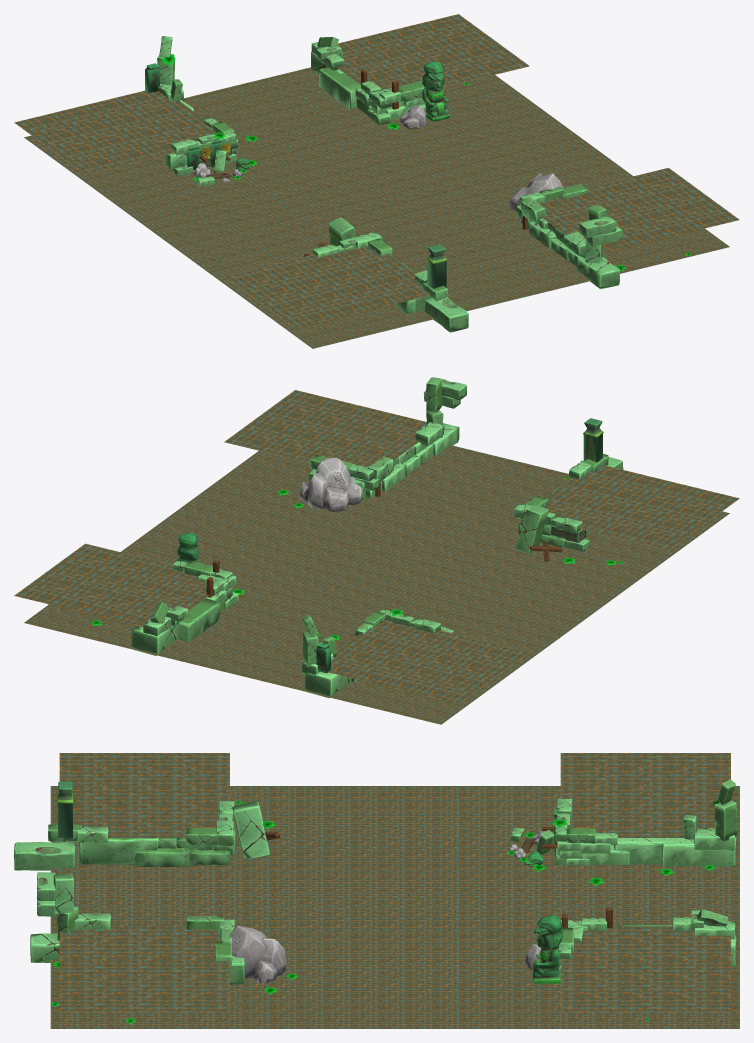
The model's file is grounds+assets.obj.
The picture shows the model from 3 angles, top to bottom: view 1: azimuth 30°, elevation 25°; view 2: azimuth 150°, elevation 25°; view 3: azimuth 270°, elevation 25°; orthographic projection. The views are drawn at different scales.
Visible parts, largest first — view 1: terrain.003, terrain.001, Cube_001.001, brick3_low.074, brick2_low.027_brick2_low.029, brick3_low.099, columna4_low, rock1_low.004, brick2_low.019_brick2_low.032; view 2: terrain.003, terrain.001, rock1_low.004, brick3_low.074, brick3_low.064, brick3_low.073, brick3_low.014, columna4_low, Cube_001.001; view 3: terrain.003, terrain.001, rock1_low.004, brick2_low.027_brick2_low.029, brick2_low.025, Cube_001.001, brick3_low.014, brick3_low.064, brick3_low.013, brick2_low.024, columna4_low, brick3_low.099 (+10 smaller).
Boxes of the visible parts, left/top/right/bottom form: terrain.003: left=24, top=67, right=729, bottom=348; terrain.001: left=14, top=14, right=739, bottom=328; Cube_001.001: left=422, top=61, right=449, bottom=121; brick3_low.074: left=319, top=67, right=360, bottom=108; brick2_low.027_brick2_low.029: left=424, top=297, right=468, bottom=332; brick3_low.099: left=577, top=256, right=619, bottom=289; columna4_low: left=427, top=244, right=447, bottom=288; rock1_low.004: left=509, top=173, right=563, bottom=219; brick2_low.019_brick2_low.032: left=579, top=216, right=616, bottom=238; terrain.003: left=24, top=445, right=729, bottom=724; terrain.001: left=14, top=390, right=739, bottom=704; rock1_low.004: left=299, top=457, right=362, bottom=511; brick3_low.074: left=178, top=599, right=219, bottom=641; brick3_low.064: left=516, top=504, right=548, bottom=553; brick3_low.073: left=131, top=624, right=178, bottom=655; brick3_low.014: left=305, top=650, right=351, bottom=697; columna4_low: left=583, top=418, right=603, bottom=462; Cube_001.001: left=177, top=533, right=199, bottom=562; terrain.003: left=50, top=786, right=739, bottom=1028; terrain.001: left=59, top=753, right=730, bottom=1011; rock1_low.004: left=229, top=925, right=286, bottom=983; brick2_low.027_brick2_low.029: left=14, top=841, right=75, bottom=870; brick2_low.025: left=78, top=838, right=158, bottom=864; Cube_001.001: left=532, top=915, right=563, bottom=983; brick3_low.014: left=661, top=837, right=736, bottom=866; brick3_low.064: left=232, top=801, right=269, bottom=858; brick3_low.013: left=614, top=838, right=676, bottom=864; brick2_low.024: left=135, top=847, right=189, bottom=867; columna4_low: left=57, top=781, right=73, bottom=837; brick3_low.099: left=30, top=933, right=59, bottom=962.
Bounding box in the file's own units: 2219 × 468 × 2630.
